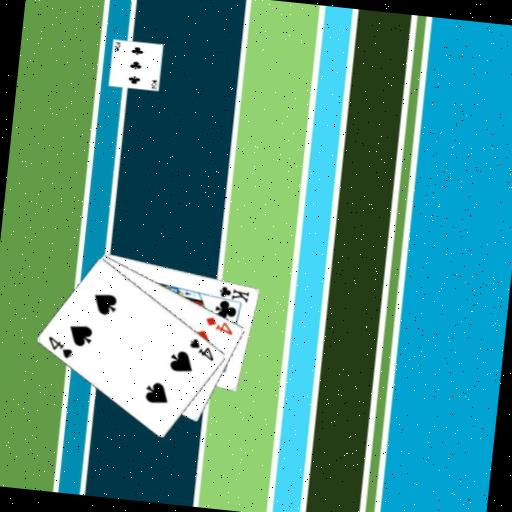4D: (202, 313, 236, 337)
4S: (185, 335, 217, 363), (44, 333, 76, 361)
KC: (212, 282, 251, 306)
